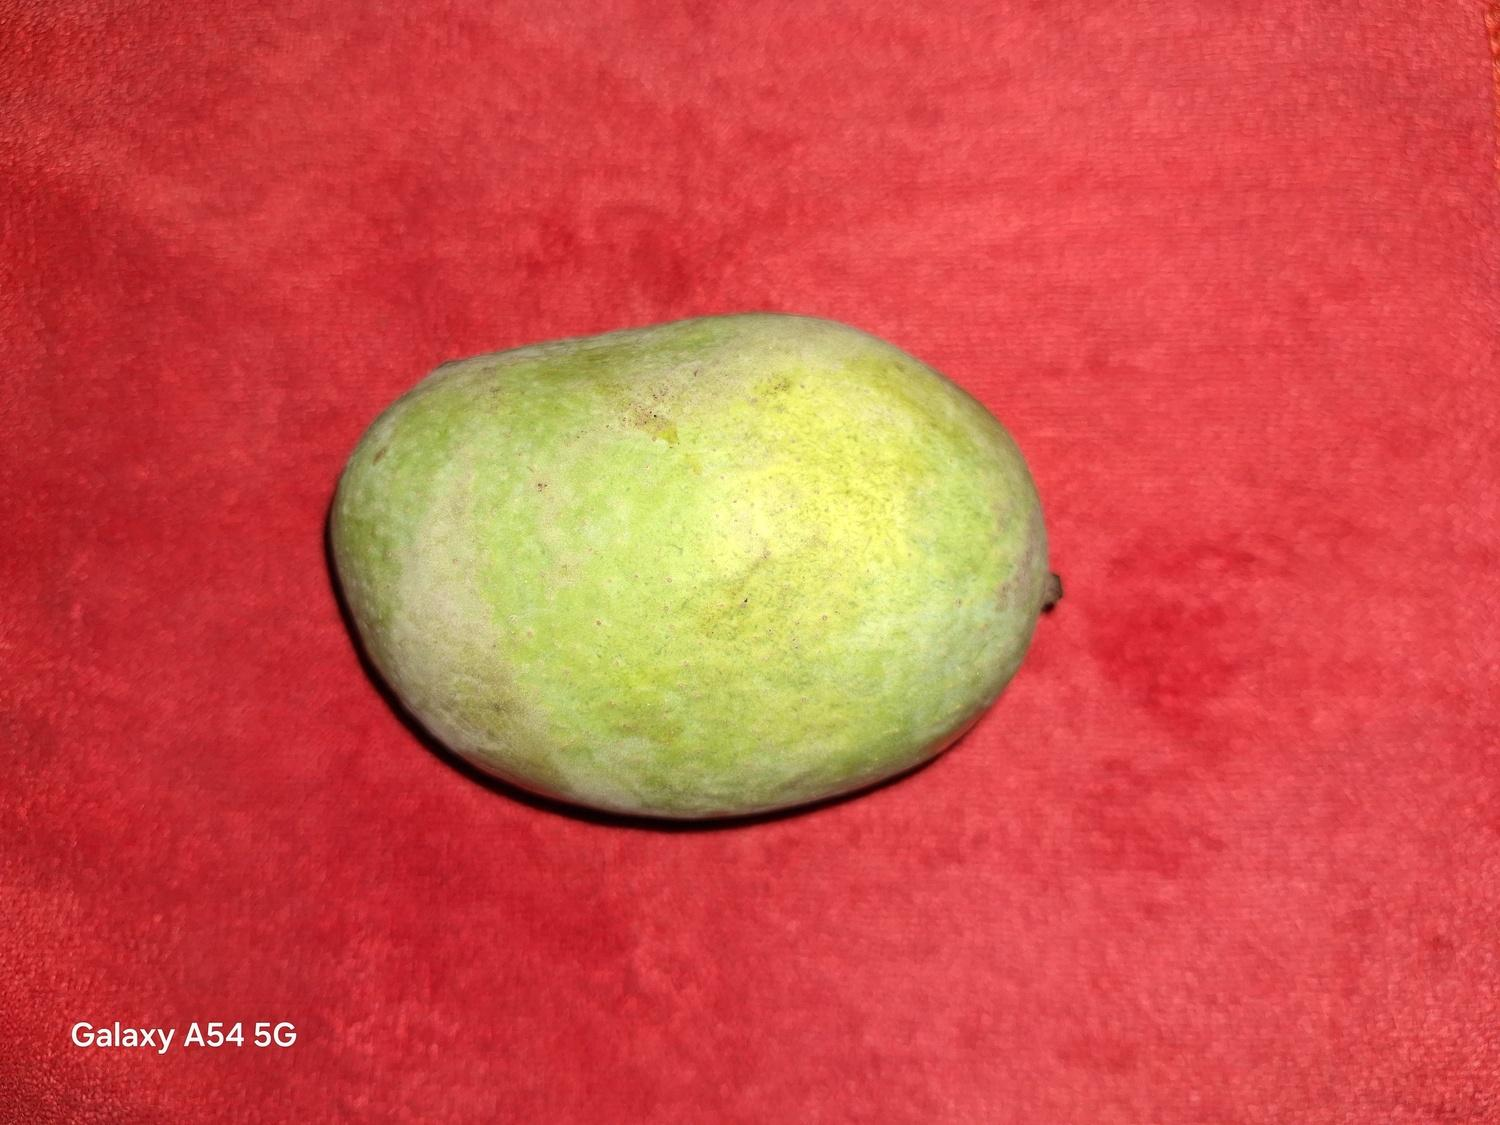mango: (326, 308, 1063, 822)
